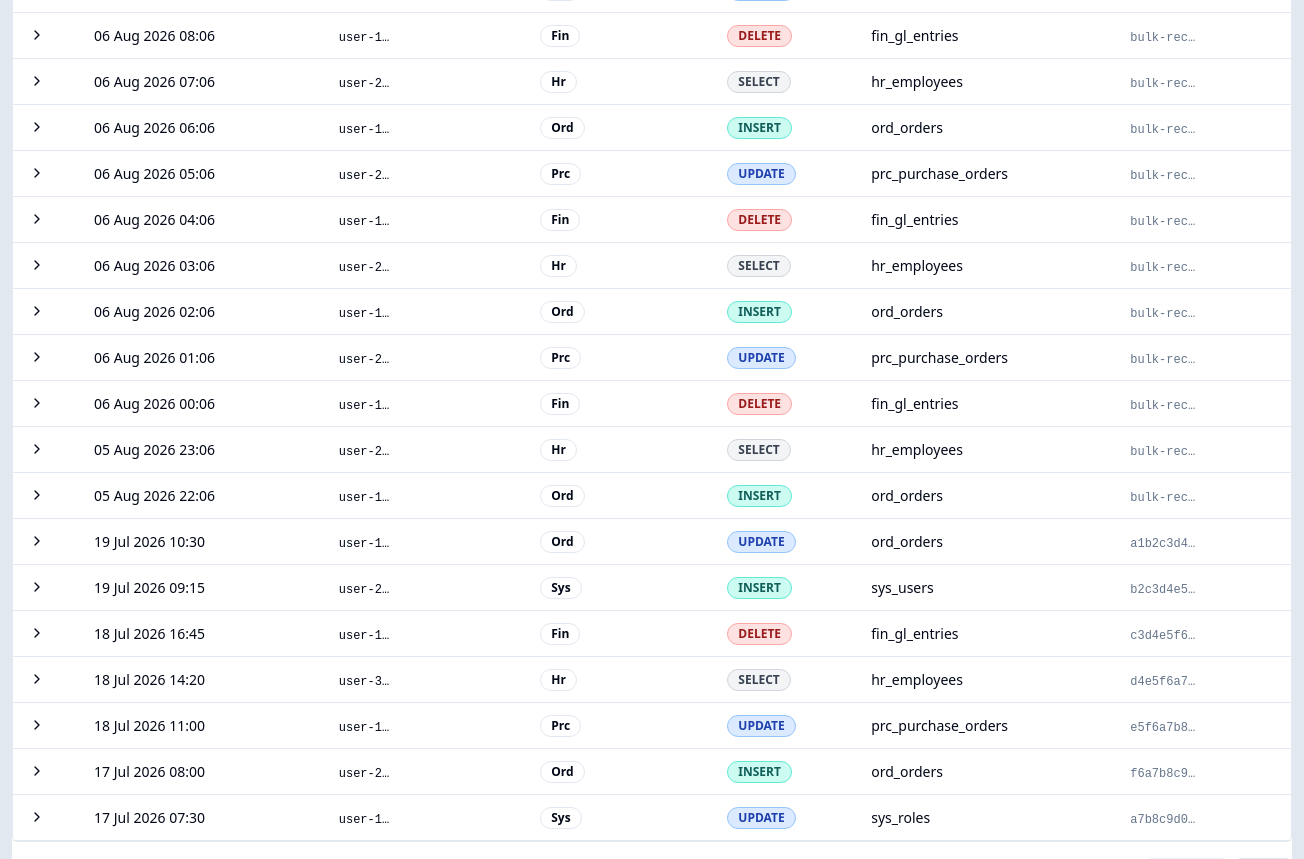
it: AuditLogPage › INSERT shows only new values, DELETE shows only old values
The width and height of the screenshot is (1304, 859).
(page scrolled)
Expand INSERT row (audit-2)
Click the row with test id "audit-row-audit-2" at (652, 588), box [13,564,1291,610]
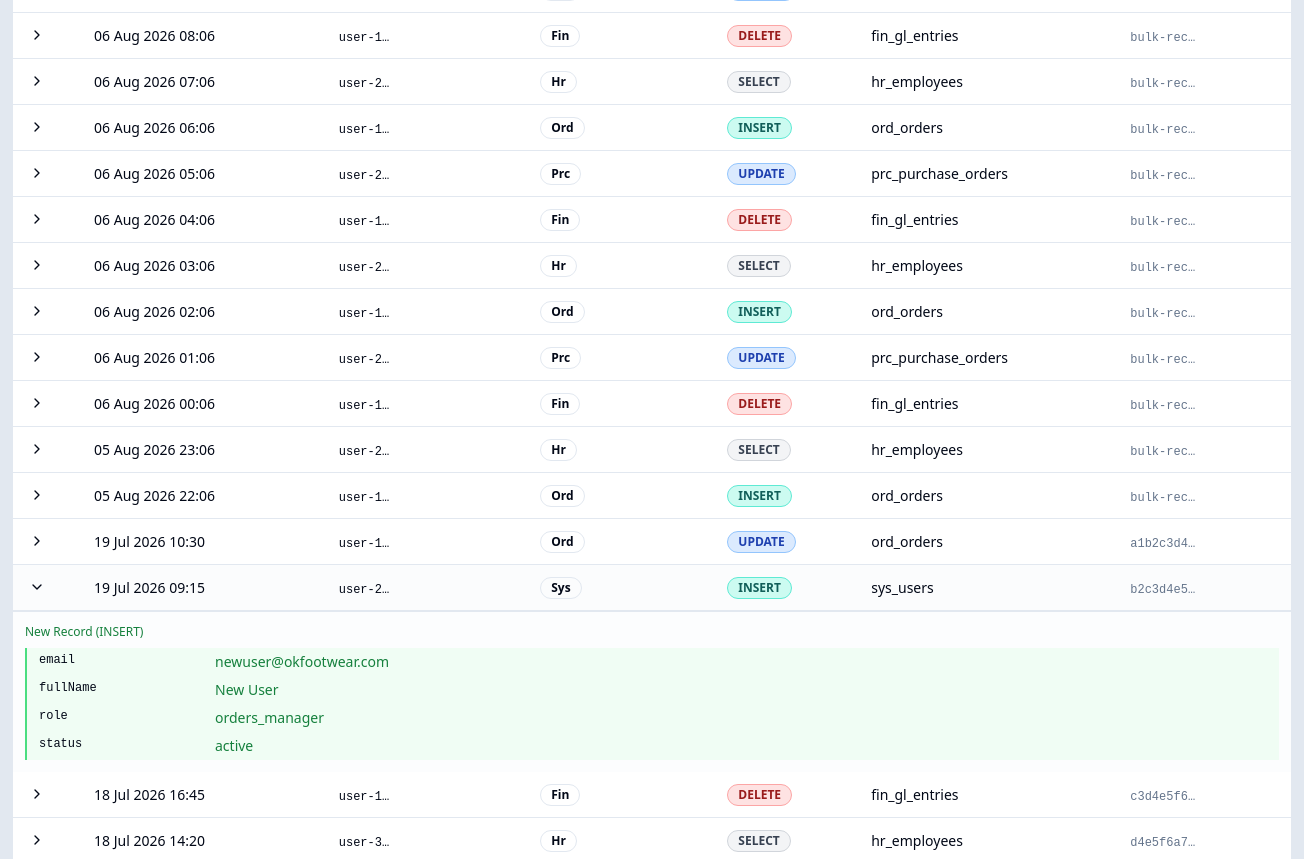
Now the row with test id "expanded-row-audit-2" is shown, box [13,610,1291,772]
Now the text "New Record (INSERT)" is shown, box [25,623,144,640]
Expand DELETE row (audit-3)
Click the row with test id "audit-row-audit-3" at (652, 795), box [13,772,1291,818]
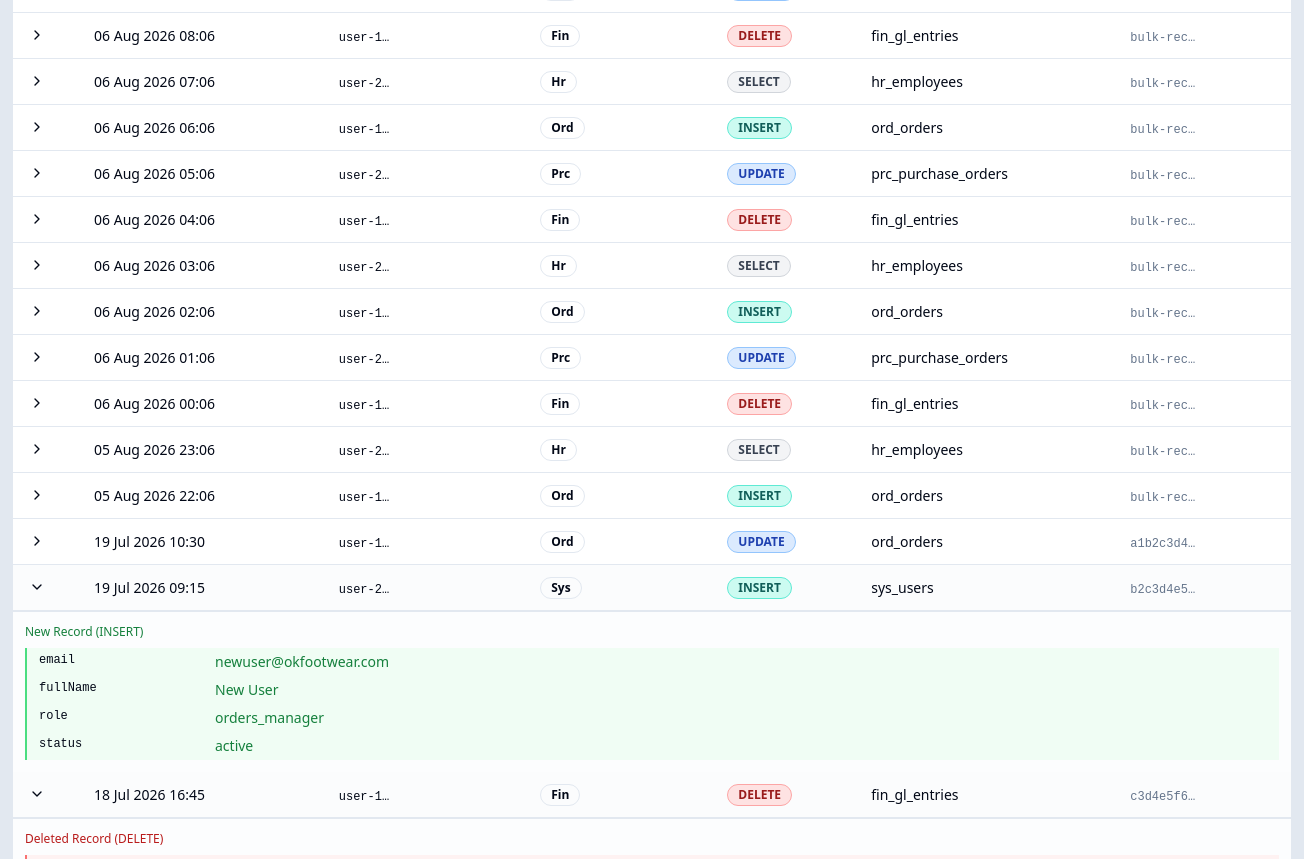
Now the text "Deleted Record (DELETE)" is shown, box [25,830,163,847]
